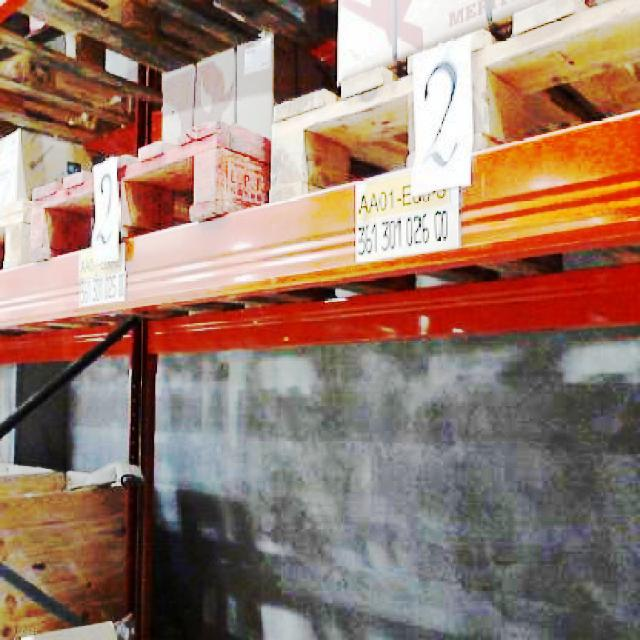pallet: (0, 89, 638, 355), (268, 0, 638, 202), (0, 118, 271, 268), (0, 462, 138, 638)
